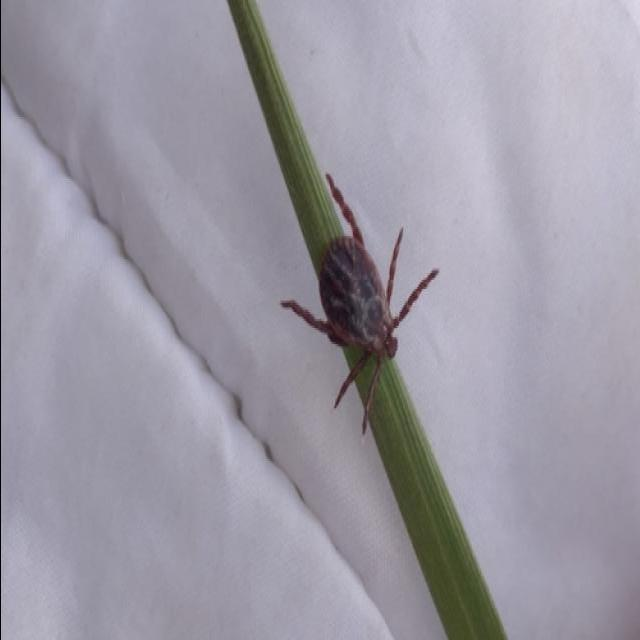Dermacentor Reticulatus-M: (281, 174, 438, 434)
